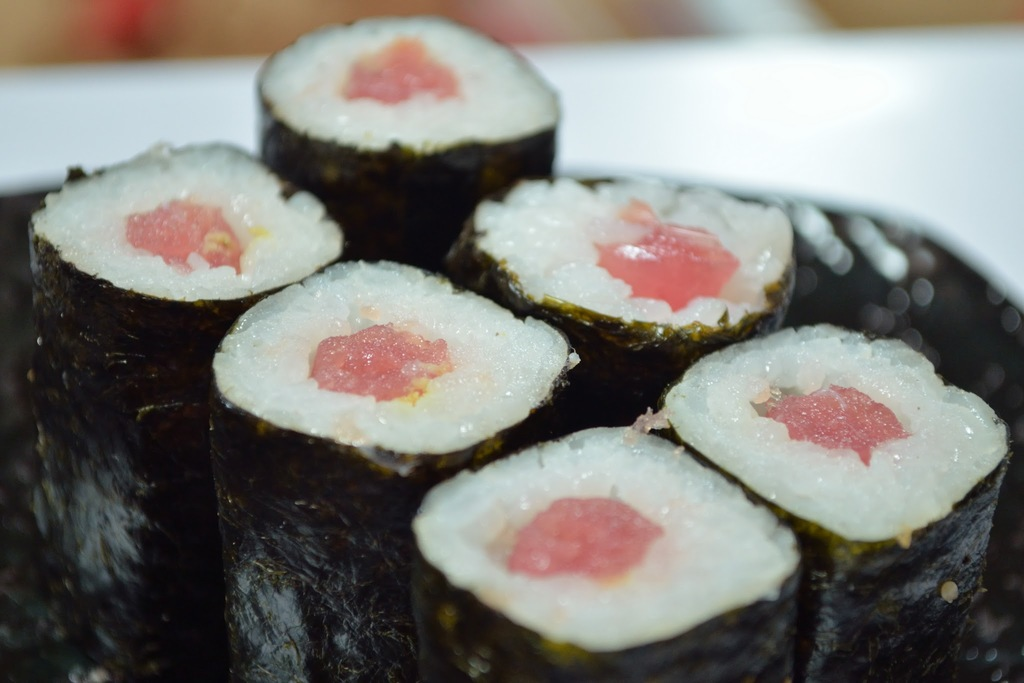sushi: (28, 15, 1012, 682), (493, 177, 849, 372)
